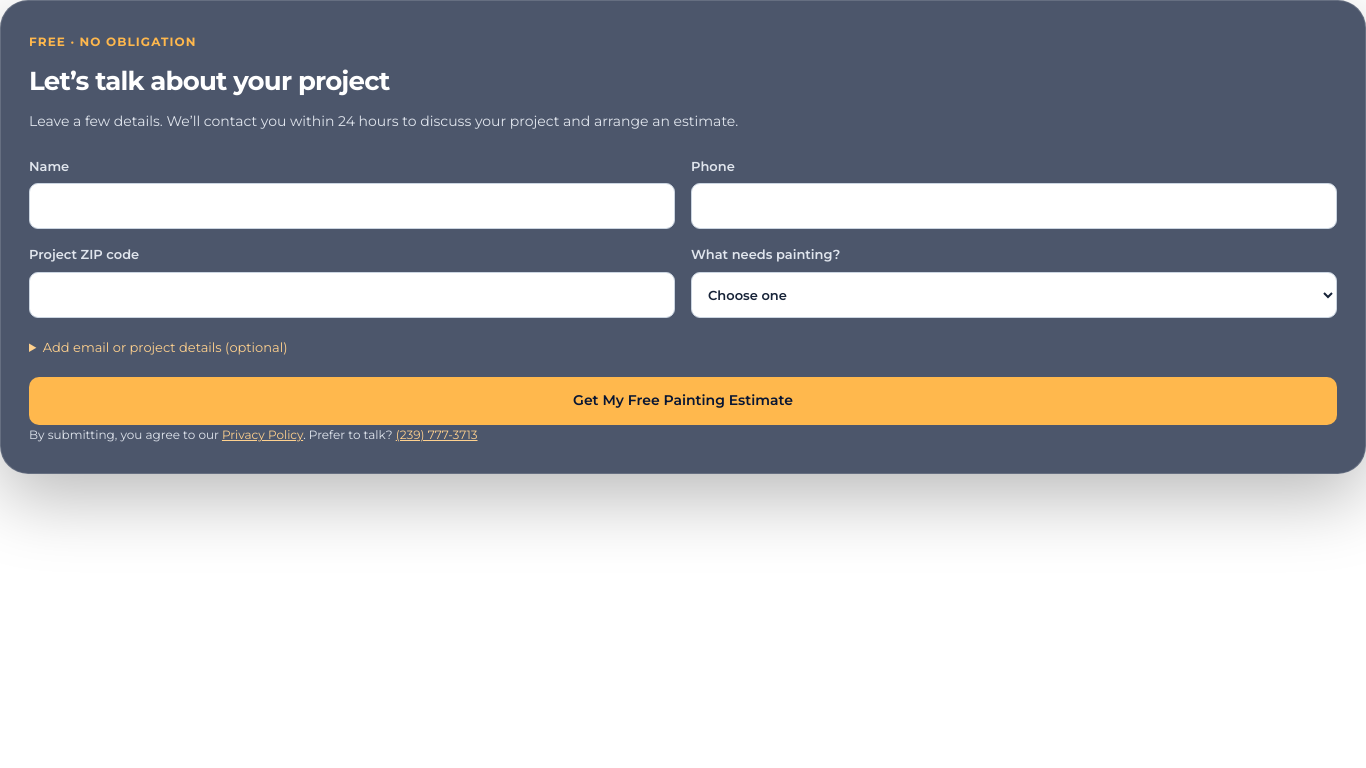
sends without optional fields and tracks only successful requests
Type "Test Customer" into the field labelled "Name".
click(352, 206); type("Test Customer")  # box x1=29 y1=183 x2=675 y2=229
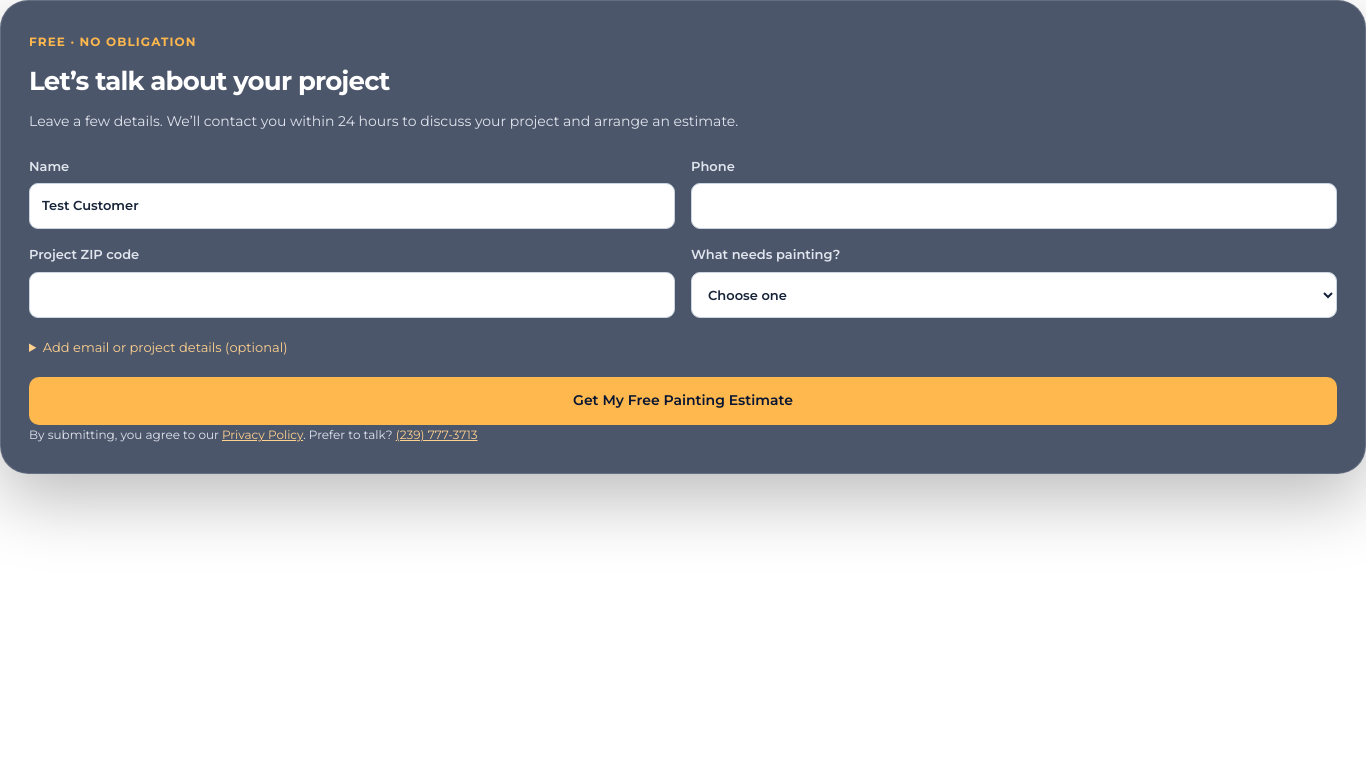
Type "2395550100" into the field labelled "Phone".
click(1014, 206); type("2395550100")  # box x1=691 y1=183 x2=1337 y2=229
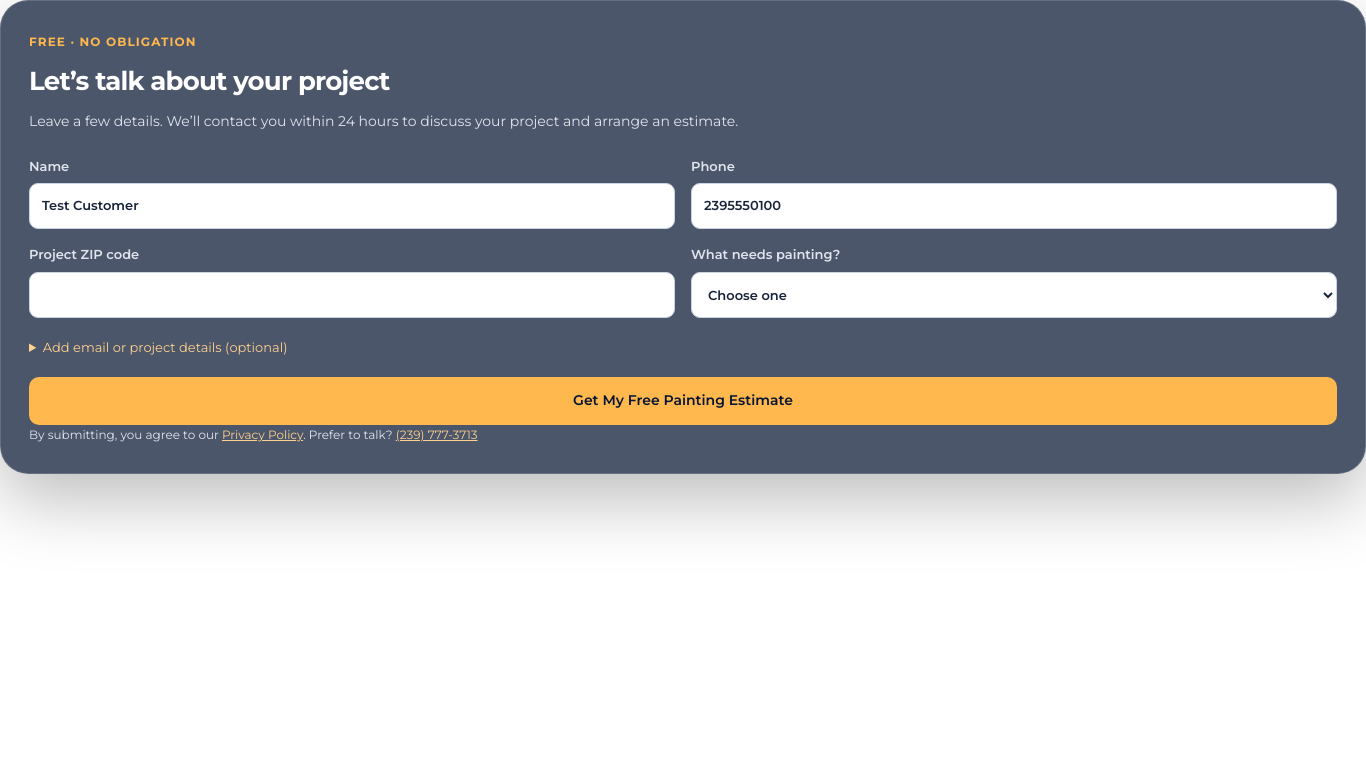
Type "33904" into the field labelled "Project ZIP code".
click(352, 295); type("33904")  # box x1=29 y1=272 x2=675 y2=318
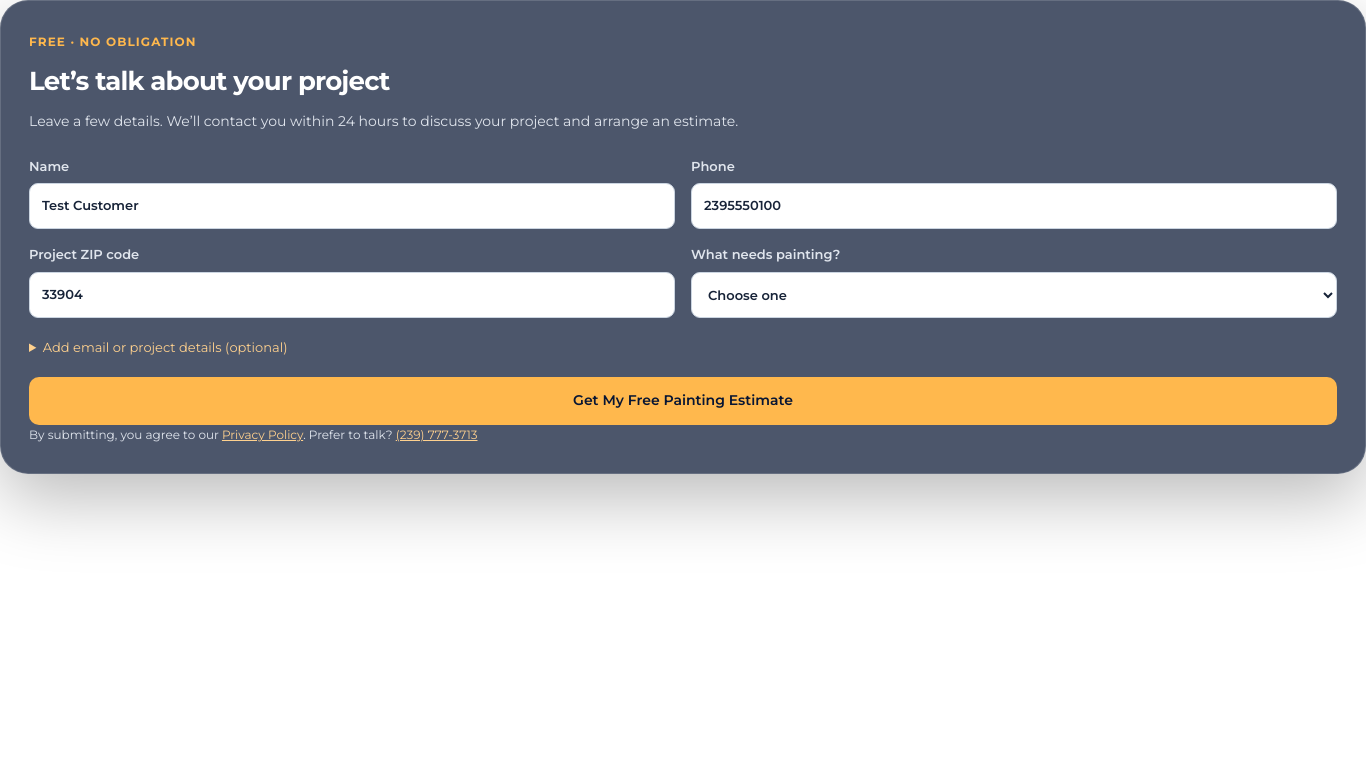
Select "Exterior" in the dropdown labelled "What needs painting?" at (1014, 295), box x1=691 y1=272 x2=1337 y2=318
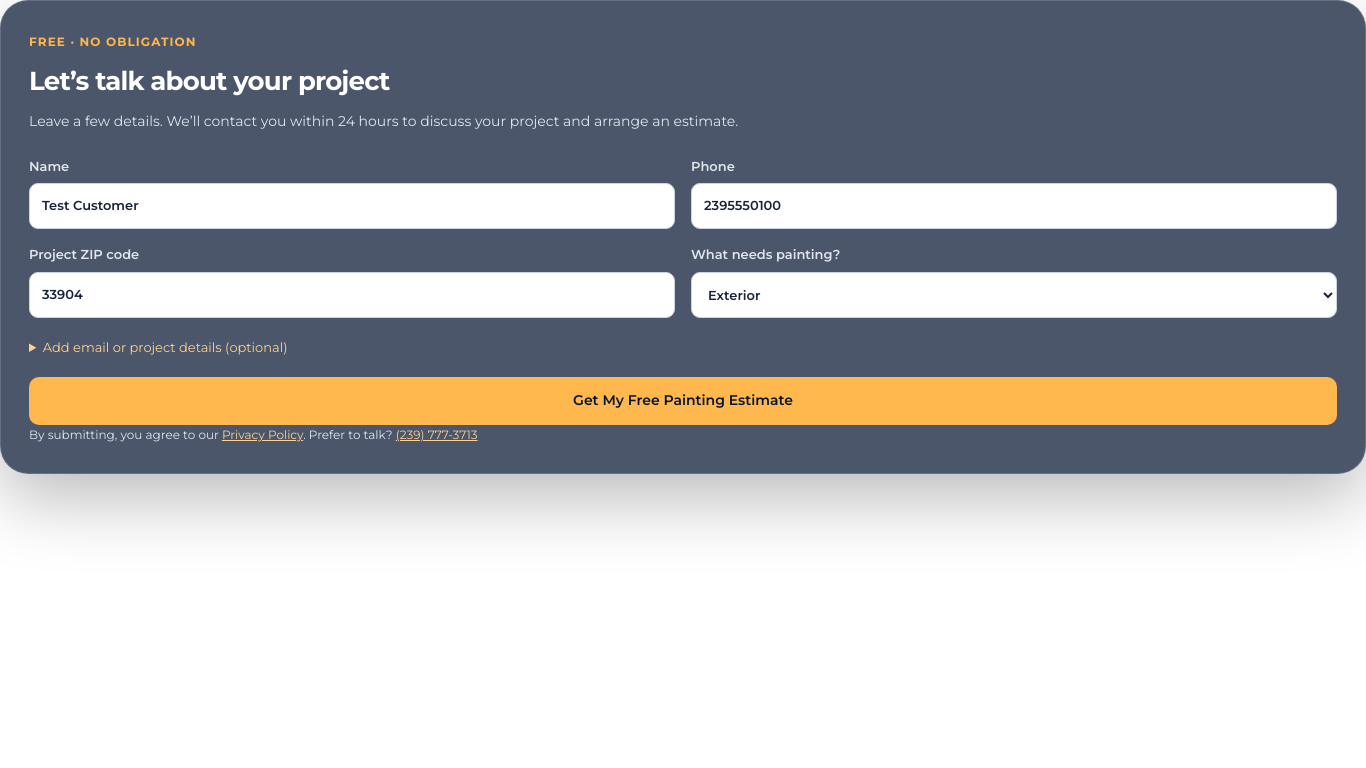
Submit the form
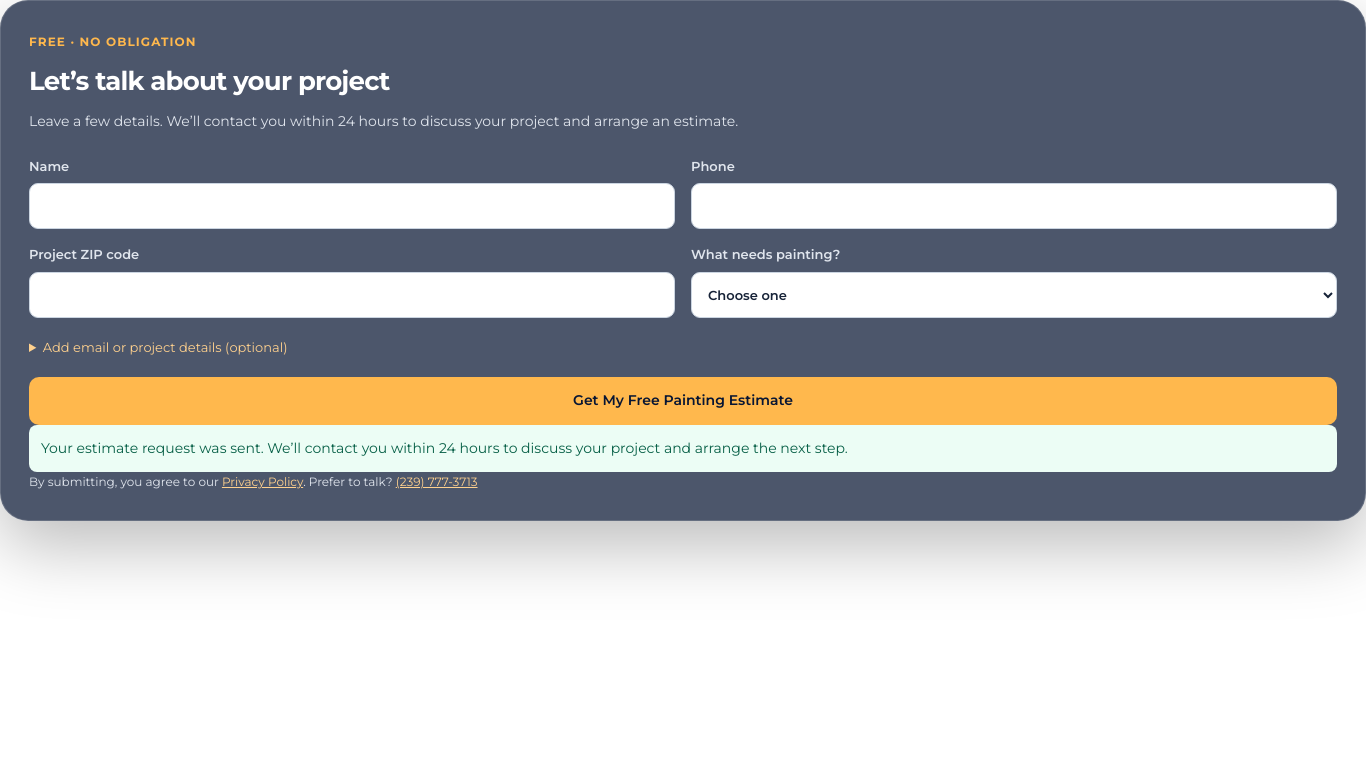
Expected: the message is shown, x1=29 y1=425 x2=1337 y2=472
Expected: the field labelled "Name" is empty, x1=29 y1=183 x2=675 y2=229
